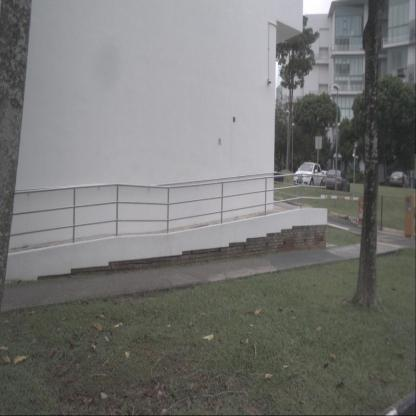vehicle-car: (293, 162, 323, 188), (322, 169, 350, 193), (262, 161, 284, 184), (389, 171, 410, 189)
